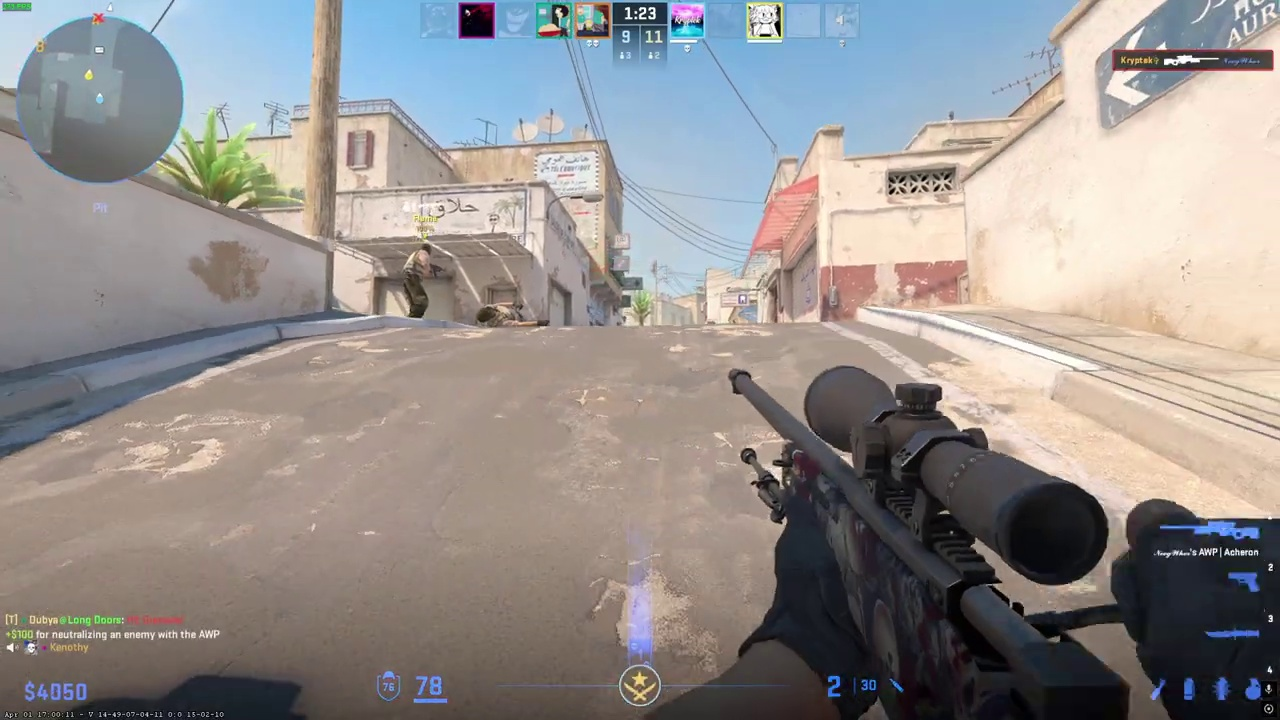Terrorist: (404, 243, 433, 318)
